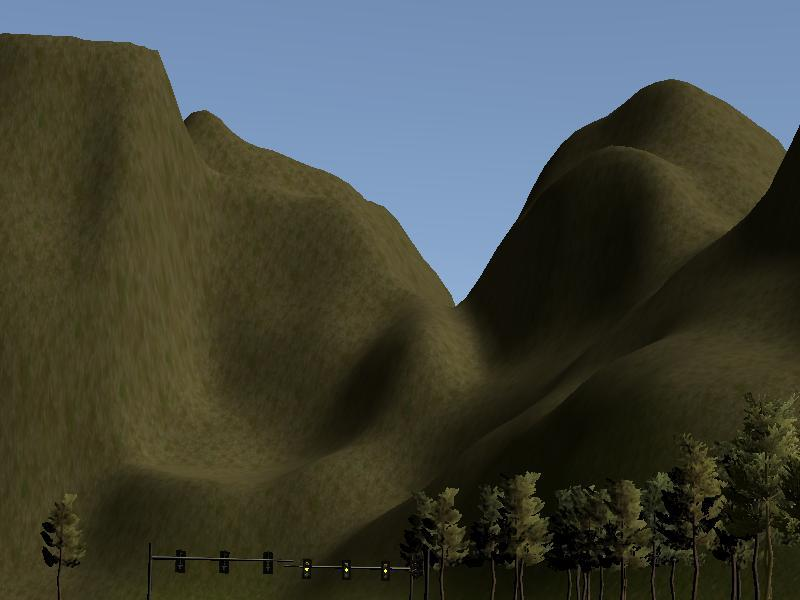Yellow: (381, 560, 391, 581), (303, 557, 312, 580), (342, 560, 351, 580)
